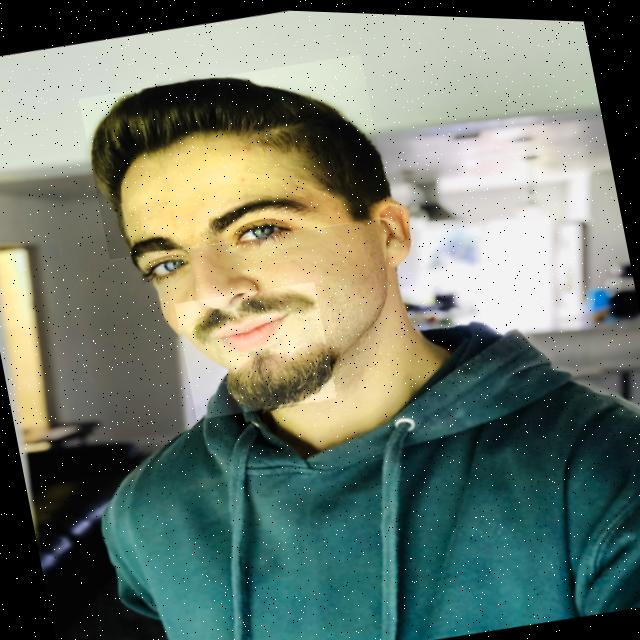beard: (180, 289, 333, 409)
hair: (89, 80, 381, 234)
